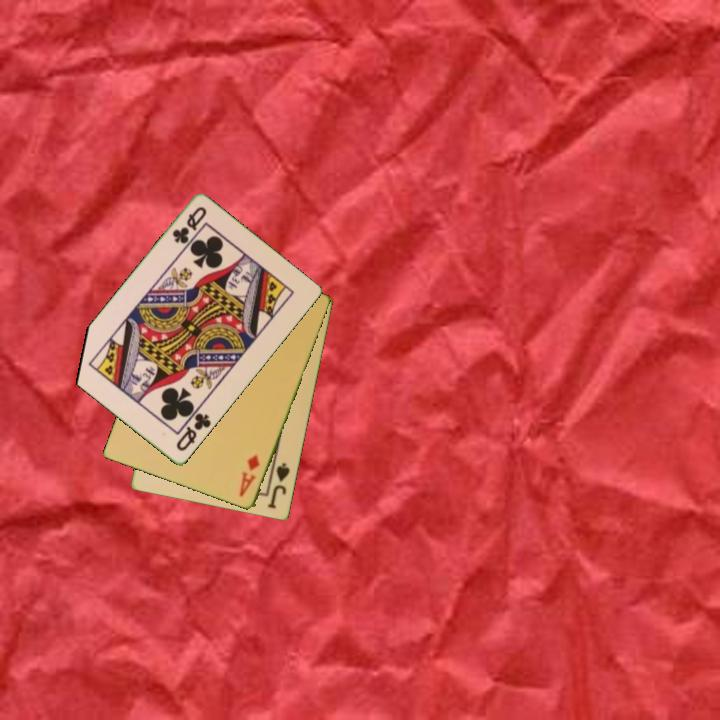Ad: (236, 451, 263, 500)
Js: (264, 459, 293, 512)
Qc: (169, 203, 210, 248), (173, 410, 214, 454)
